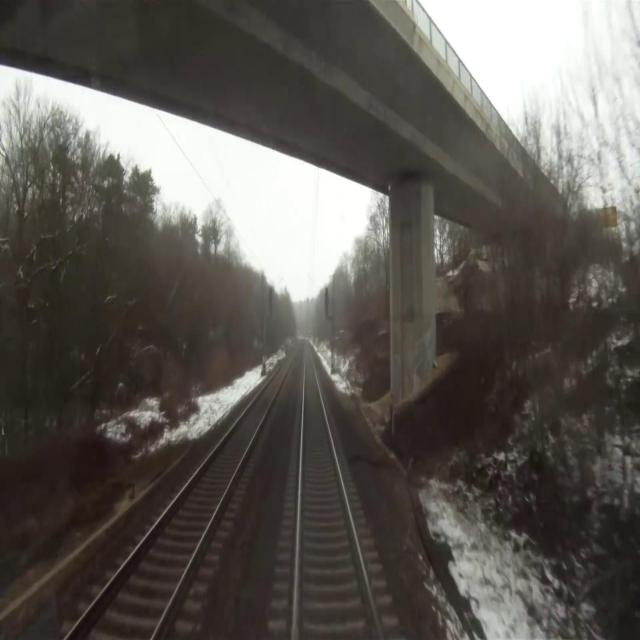rail-track: (68, 345, 297, 639), (296, 345, 377, 639)
